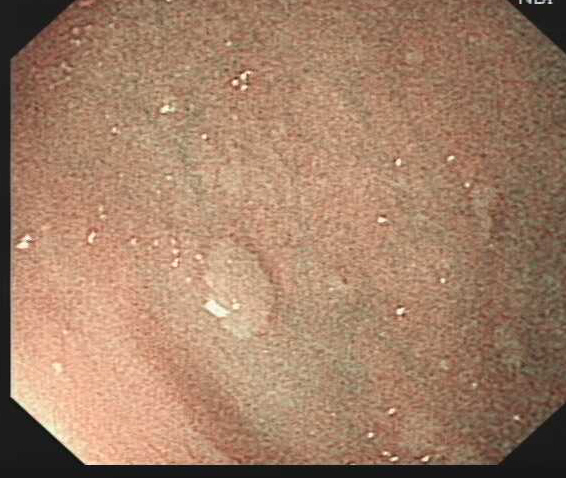others: (196, 241, 279, 341)
